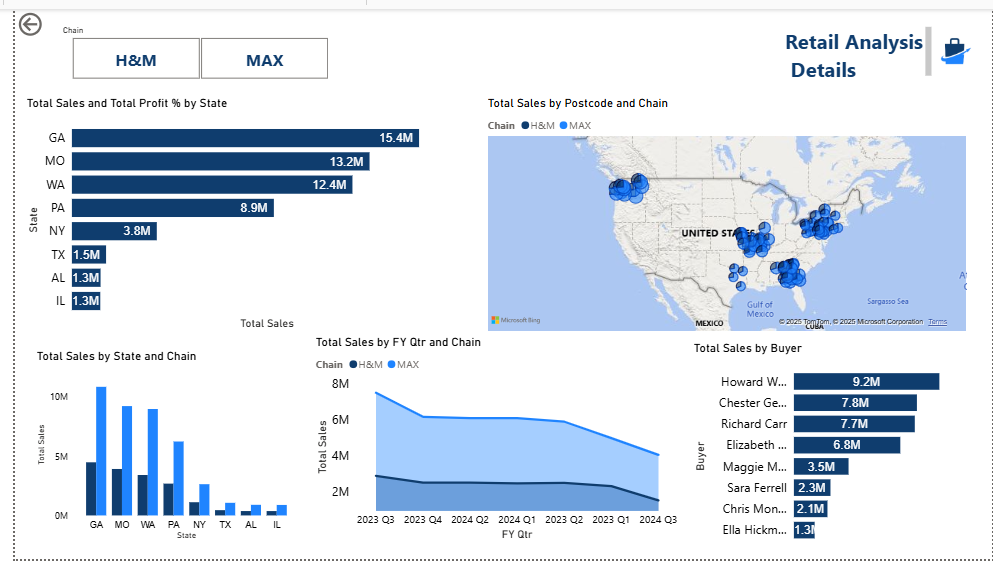

Layout of this report page (visuals, bound fields, positions):
{"tool":"powerbi","page":{"name":"Regions & Chains","canvas":[1280,720],"ordinal":1},"visuals":[{"type":"clusteredBarChart","fields":{"Y":["Sales.Total Sales"],"Category":["Buyers.Buyer"]},"box":[884.2,434.9,377.3,275],"z":0},{"type":"map","fields":{"Category":["Sales.Postcode"],"Series":["Sales.Chain"],"Size":["Sales.Total Sales"]},"box":[614,113.9,636.2,312.9],"z":1000},{"type":"clusteredBarChart","fields":{"Category":["States.State","Managers.Manager Full Name"],"Y":["Sales.Total Sales"]},"box":[10.1,113.8,580.3,311],"z":2000},{"type":"areaChart","fields":{"Category":["Dates.FY Qtr"],"Y":["Sales.Total Sales"],"Series":["Sales.Chain"]},"box":[388.8,426.2,488.2,273.6],"z":3000},{"type":"slicer","fields":{"Values":["Sales.Chain"]},"box":[49.5,16.5,384,81.2],"z":4000},{"type":"clusteredColumnChart","fields":{"Category":["States.State"],"Y":["Sales.Total Sales"],"Series":["Sales.Chain"]},"box":[23,445,351.4,254.9],"z":6000},{"type":"actionButton","box":[0,0,100,40],"z":7000},{"type":"textbox","box":[1002.2,18.7,201.6,77.8],"z":8000},{"type":"image","box":[1198.1,24.5,63.4,64.8],"z":9000}]}

Visuals, with their boxes in screenshot pixels (x1, y1, x2, y2), scaled from the page's 1280x720 canvas onto the 993x562 screenshot:
clusteredBarChart - Sales.Total Sales x Buyers.Buyer: [686,339,979,554]
map - Sales.Postcode x Sales.Chain: [476,89,970,333]
clusteredBarChart - States.State x Managers.Manager Full Name: [8,89,458,332]
areaChart - Dates.FY Qtr x Sales.Total Sales: [302,333,680,546]
slicer - Sales.Chain: [38,13,336,76]
clusteredColumnChart - States.State x Sales.Total Sales: [18,347,290,546]
actionButton: [0,0,78,31]
textbox: [777,15,934,75]
image: [929,19,979,70]
